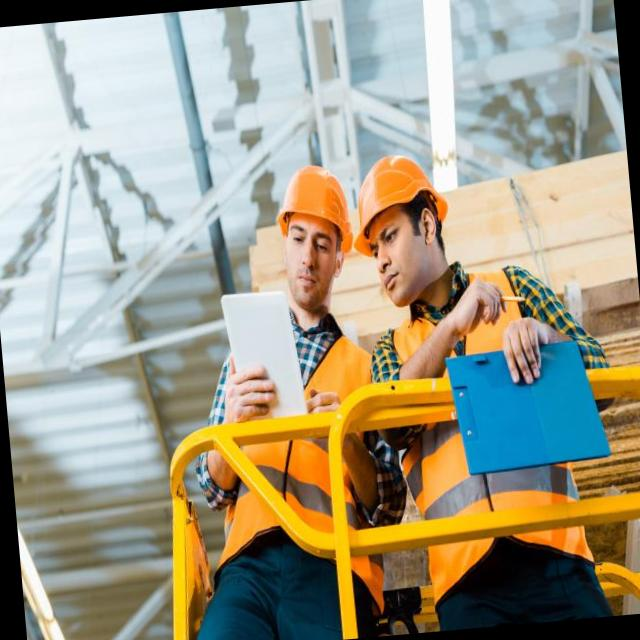Helmet: (348, 152, 454, 245), (270, 168, 354, 252)
Vest: (378, 282, 602, 592), (200, 271, 392, 624)
